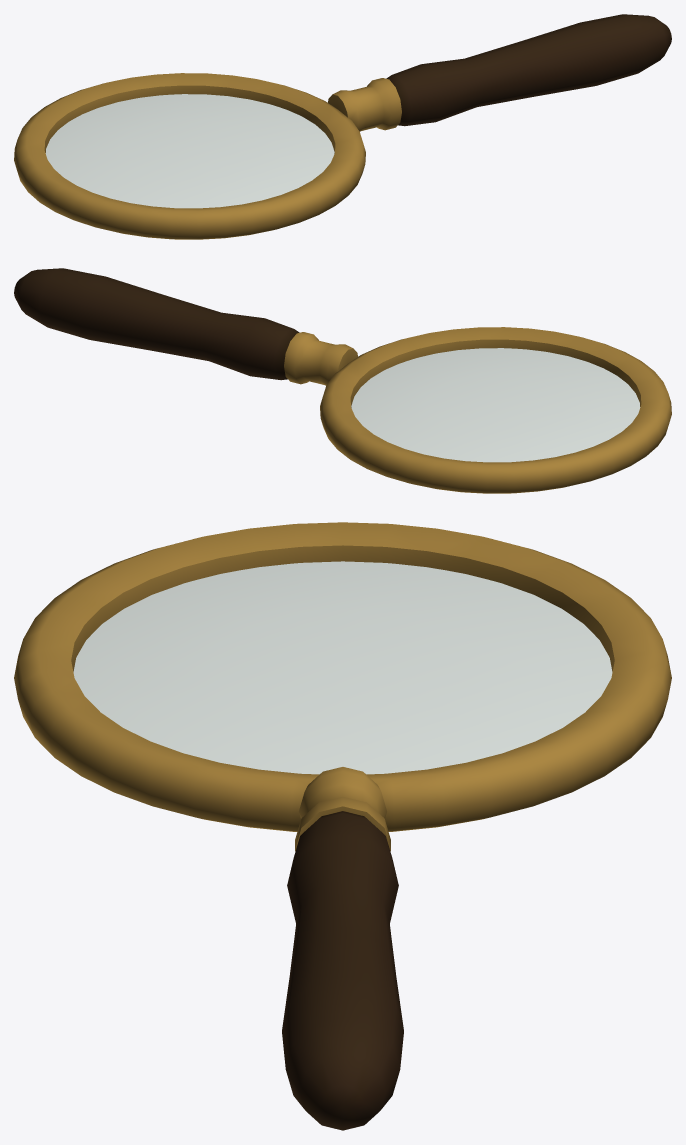
The model's file is lens.glb.
3 views of the same model, one above another, from view 1: azimuth 30°, elevation 25°; view 2: azimuth 150°, elevation 25°; view 3: azimuth 270°, elevation 25° (orthographic). The views are drawn at different scales.
Parts seen in each view (by area): view 1: base, glass; view 2: base, glass; view 3: base, glass.
Part boxes in pixels (<box>): base: <box>14,14,671,239</box>; glass: <box>45,94,334,208</box>; base: <box>14,268,671,493</box>; glass: <box>351,348,640,462</box>; base: <box>14,522,671,1130</box>; glass: <box>73,561,612,774</box>.
Bounding box in the file's own units: 0.2091 × 0.0188 × 0.1012.
